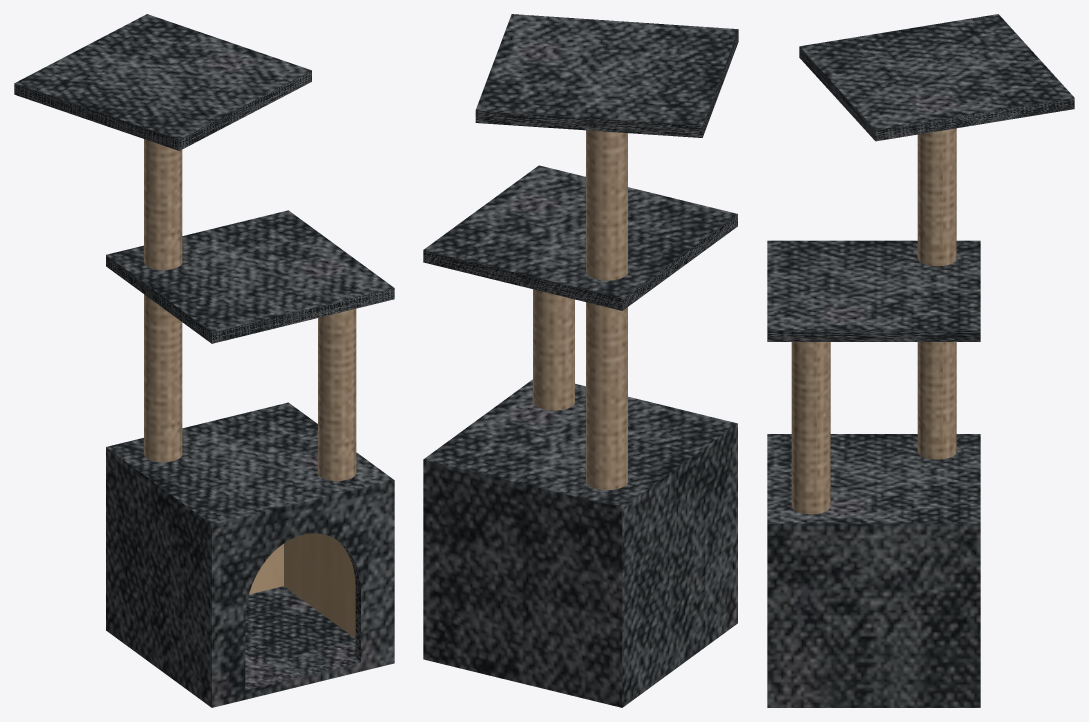
Rendered from cat_house.glb.
3 views of the same model, side by side, from view 1: azimuth 30°, elevation 25°; view 2: azimuth 150°, elevation 25°; view 3: azimuth 270°, elevation 25° (orthographic). The views are drawn at different scales.
Parts seen in each view (by area): view 1: pCube7, pCube3, pCube2, pCylinder2, pCube12, pCylinder1, pCylinder3; view 2: pCube7, pCube3, pCube2, pCylinder1, pCylinder3, pCylinder2; view 3: pCube7, pCube3, pCube2, pCylinder2, pCylinder3, pCylinder1.
Part boxes in pixels (x1,y1,x2,y2): pCube7: (106,402,394,707); pCube3: (14,14,311,150); pCube2: (106,210,394,343); pCylinder2: (318,309,356,480); pCube12: (249,533,355,638); pCylinder1: (144,294,182,462); pCylinder3: (144,139,182,269); pCube7: (423,379,737,707); pCube3: (475,14,738,137); pCube2: (423,165,737,310); pCylinder1: (586,302,627,489); pCylinder3: (586,130,627,280); pCylinder2: (533,289,574,410); pCube7: (767,434,980,707); pCube3: (799,14,1074,141); pCube2: (767,240,980,341); pCylinder2: (791,342,830,514); pCylinder3: (917,128,956,266); pCylinder1: (917,342,956,459).
Bounding box in the file's own units: 0.0572 × 0.1156 × 0.057.
3 materials, 3 textured.
